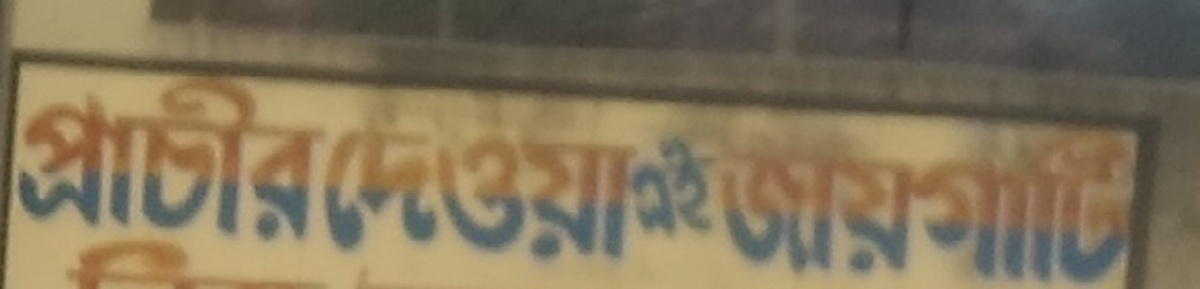text: (305, 57, 321, 246), (17, 57, 32, 246), (33, 57, 48, 246), (49, 57, 64, 246), (65, 57, 80, 246), (81, 57, 96, 246), (97, 57, 112, 246), (113, 57, 128, 246), (129, 57, 144, 246), (145, 57, 160, 246), (161, 57, 176, 246), (177, 57, 192, 246), (193, 57, 208, 246), (209, 57, 224, 246), (225, 57, 240, 246), (241, 57, 256, 246), (257, 57, 272, 246), (273, 57, 288, 246), (289, 57, 304, 246), (721, 123, 736, 286), (737, 123, 752, 286), (753, 123, 768, 286), (769, 123, 784, 286), (785, 123, 800, 286), (801, 123, 816, 286), (817, 123, 832, 286), (833, 123, 848, 286), (849, 123, 864, 286), (865, 123, 880, 286), (881, 123, 896, 286), (897, 123, 912, 286), (913, 123, 928, 286), (929, 123, 944, 286), (945, 123, 960, 286), (961, 123, 976, 286), (977, 123, 992, 286), (993, 123, 1008, 286), (1009, 123, 1024, 286), (1025, 123, 1040, 286), (1041, 123, 1056, 286), (1057, 123, 1072, 286), (1073, 123, 1088, 286), (1089, 123, 1104, 286), (1105, 123, 1120, 286), (337, 122, 352, 266), (353, 122, 368, 266), (369, 122, 384, 266), (385, 122, 400, 266), (401, 122, 416, 266), (417, 122, 432, 266), (433, 122, 448, 266), (449, 122, 464, 266), (465, 122, 480, 266), (481, 122, 496, 266), (497, 122, 512, 266), (513, 122, 528, 266), (529, 122, 544, 266), (545, 122, 560, 266), (561, 122, 576, 266), (577, 122, 592, 266), (593, 122, 608, 266), (609, 122, 624, 266), (1121, 123, 1131, 286), (641, 132, 656, 236), (657, 132, 672, 236), (673, 132, 688, 236), (689, 132, 704, 236), (625, 122, 635, 266), (705, 132, 716, 236), (713, 123, 720, 286), (631, 132, 640, 236), (65, 238, 80, 286), (81, 238, 96, 286), (97, 238, 112, 286), (113, 238, 128, 286), (129, 238, 144, 286), (145, 238, 160, 286), (161, 238, 176, 286), (177, 238, 192, 286), (193, 238, 208, 286), (209, 238, 224, 286), (225, 238, 240, 286), (241, 238, 256, 286), (257, 238, 272, 286), (273, 238, 288, 286), (289, 238, 304, 286), (305, 238, 320, 286), (321, 238, 336, 286), (50, 238, 64, 286), (337, 238, 341, 286)
